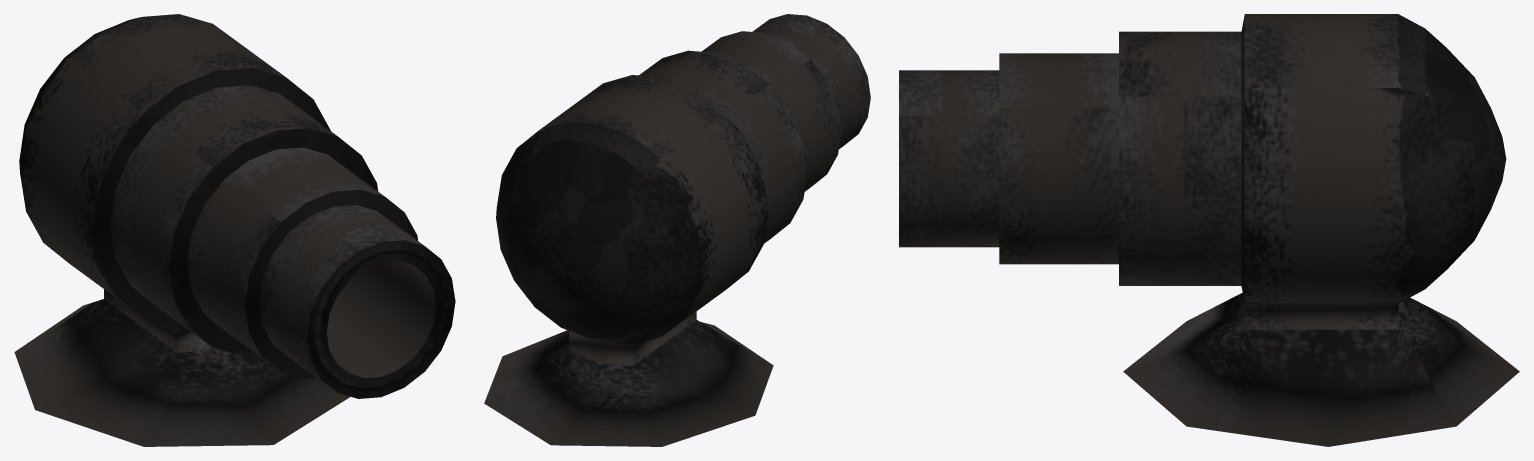
The model's file is NEWLauncher.fbx.
The picture shows the model from 3 angles, left to right: view 1: azimuth 30°, elevation 25°; view 2: azimuth 150°, elevation 25°; view 3: azimuth 270°, elevation 25°; orthographic projection. The views are drawn at different scales.
Visible parts, largest first — view 1: pCylinder1; view 2: pCylinder1; view 3: pCylinder1.
Part boxes in pixels (<box>): pCylinder1: <box>14,14,455,446</box>; pCylinder1: <box>484,14,870,446</box>; pCylinder1: <box>899,14,1519,446</box>.
Bounding box in the file's own units: 0.8839 × 0.9605 × 1.57.
